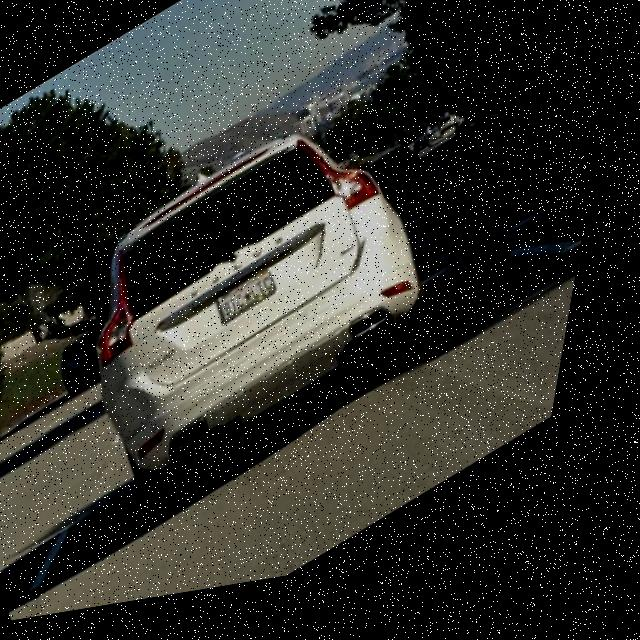license_plate: (218, 270, 296, 338), (391, 182, 411, 199)
